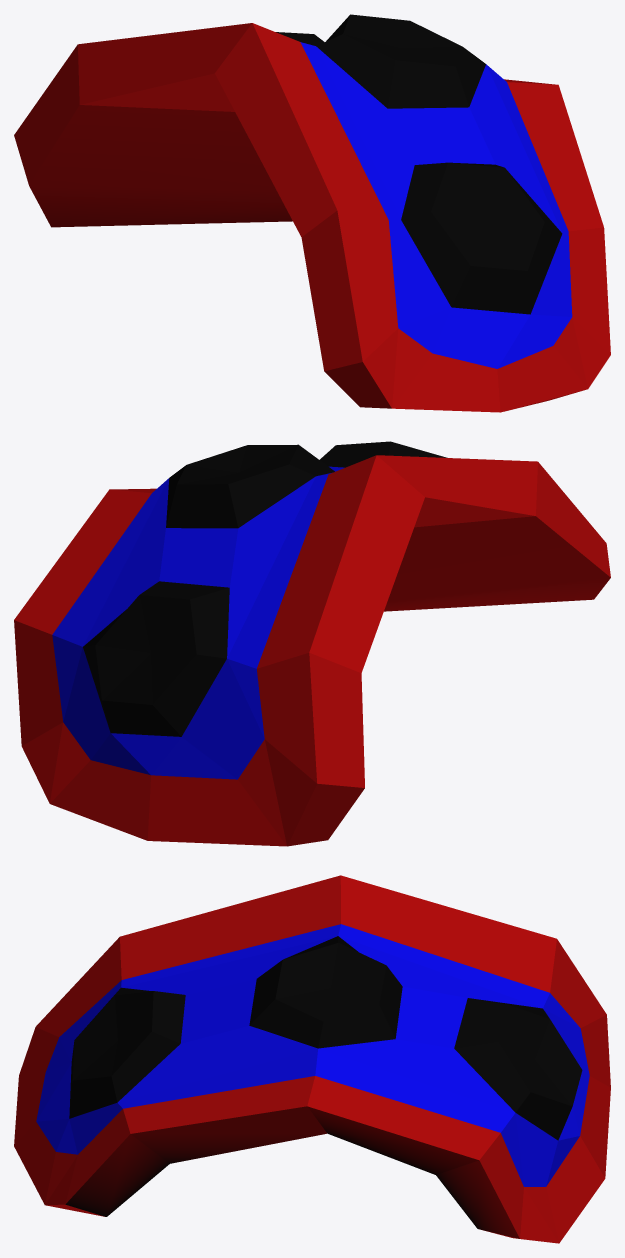
File: Chr_ShoulderAttachLeft_Static_01.fbx
The picture shows the model from 3 angles, top to bottom: view 1: azimuth 30°, elevation 25°; view 2: azimuth 150°, elevation 25°; view 3: azimuth 270°, elevation 25°; orthographic projection. The views are drawn at different scales.
Visible parts, largest first — view 1: Chr_ShoulderAttachLeft_01; view 2: Chr_ShoulderAttachLeft_01; view 3: Chr_ShoulderAttachLeft_01.
Boxes of the visible parts, left/top/right/bottom form: Chr_ShoulderAttachLeft_01: left=14, top=14, right=610, bottom=412; Chr_ShoulderAttachLeft_01: left=14, top=441, right=610, bottom=846; Chr_ShoulderAttachLeft_01: left=14, top=875, right=610, bottom=1243.
Bounding box in the file's own units: 23.04 × 17.57 × 33.91.
